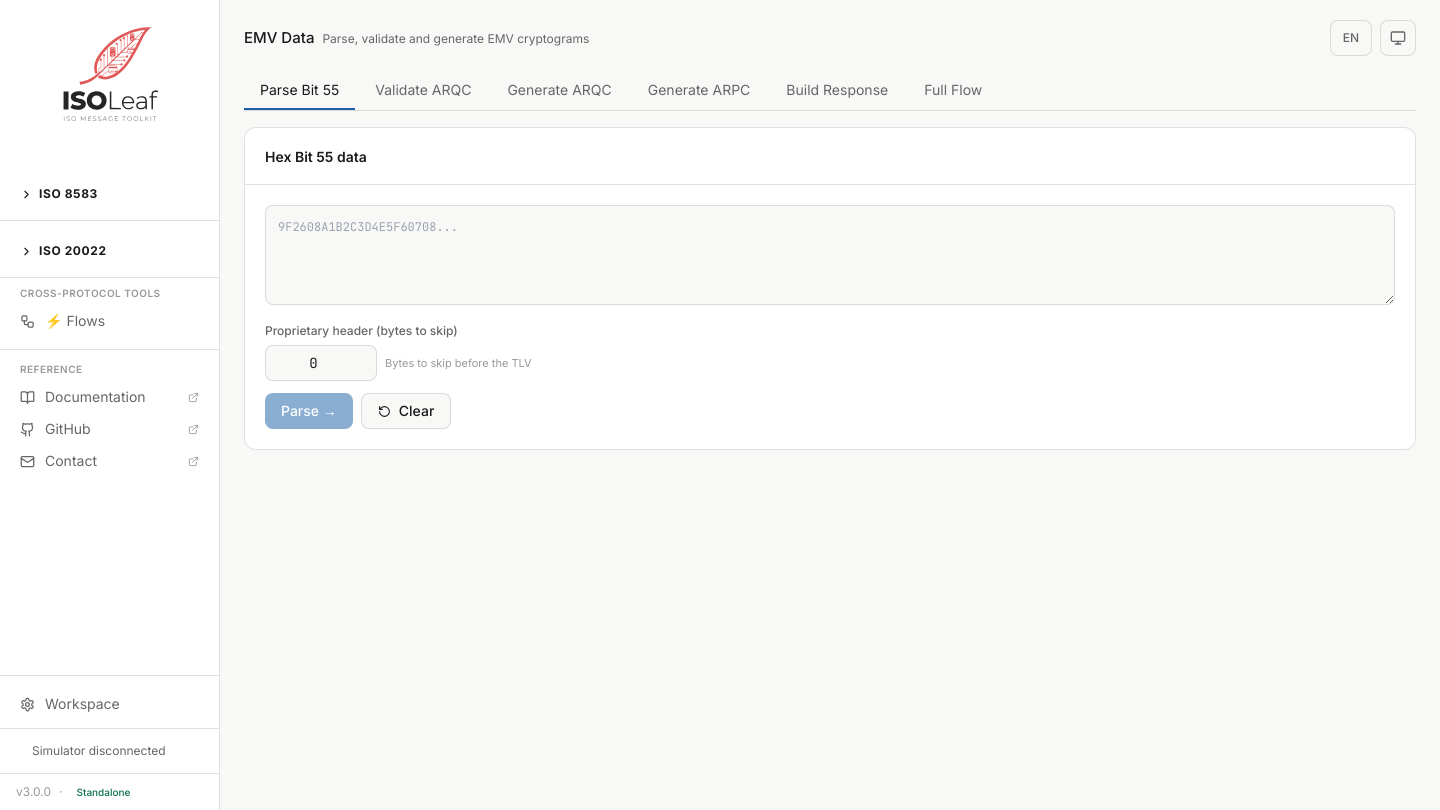
Test: EMV page › clicking 'Validate ARQC' tab swaps the panel
The image size is (1440, 810).
Click the tab "Validate ARQC" at (423, 91), box top-left (359, 72), bottom-right (488, 110)
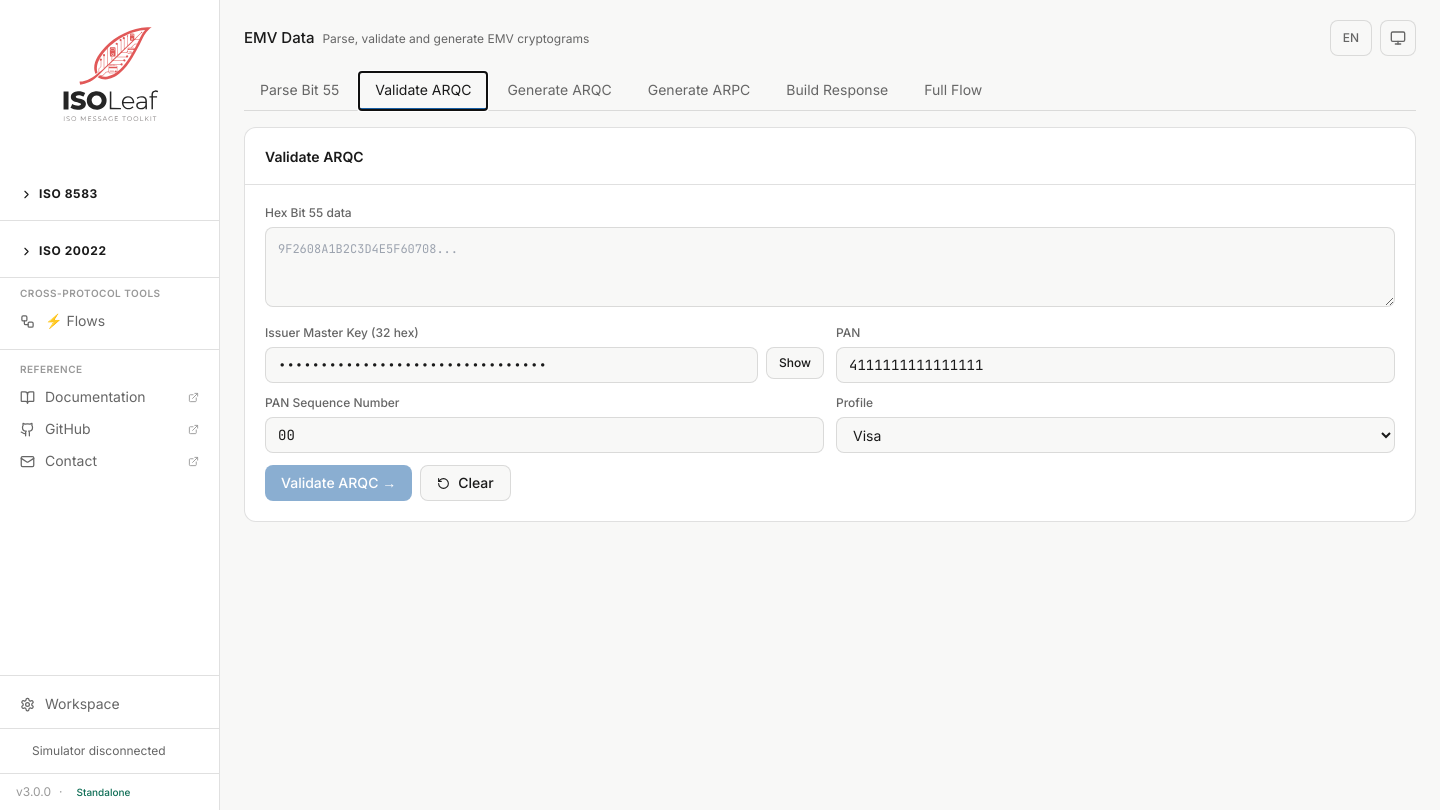
Result: the text "Issuer Master Key (32 hex)" is shown at top-left (265, 325), bottom-right (419, 340)
